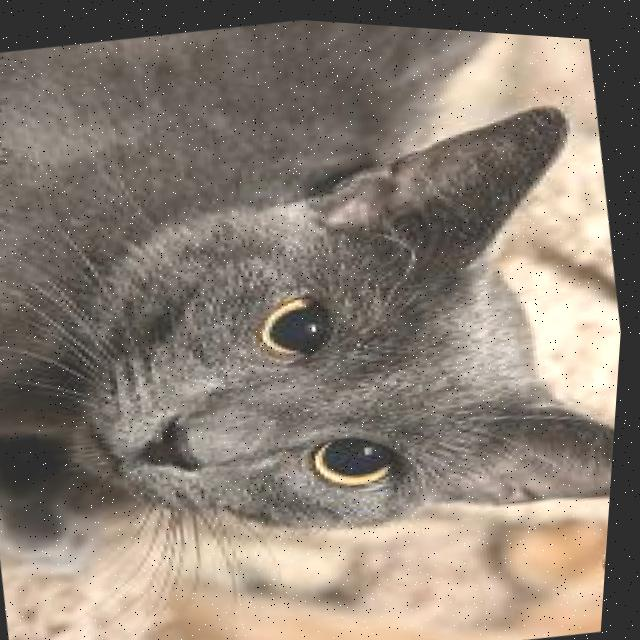Russian Blue: (0, 0, 640, 603)
